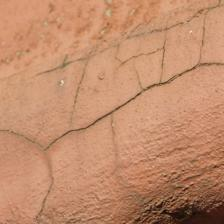Crack: (69, 0, 154, 103), (0, 98, 138, 127), (0, 53, 63, 98), (53, 40, 106, 91), (41, 43, 69, 131)
